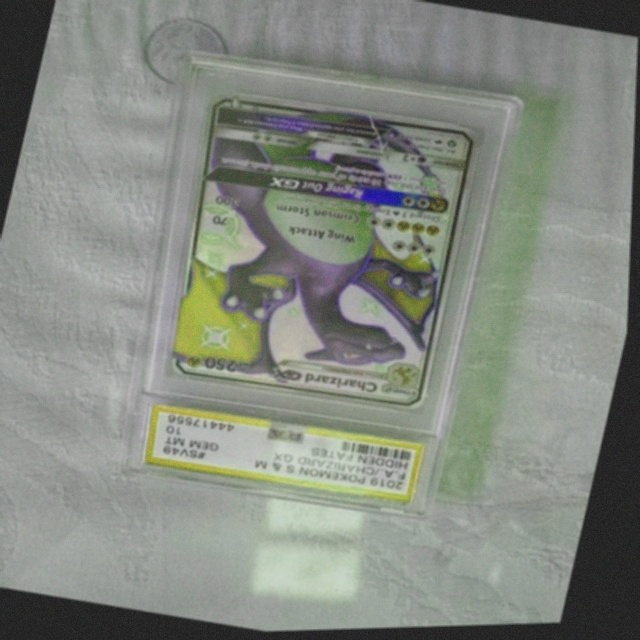card: (173, 95, 479, 412)
